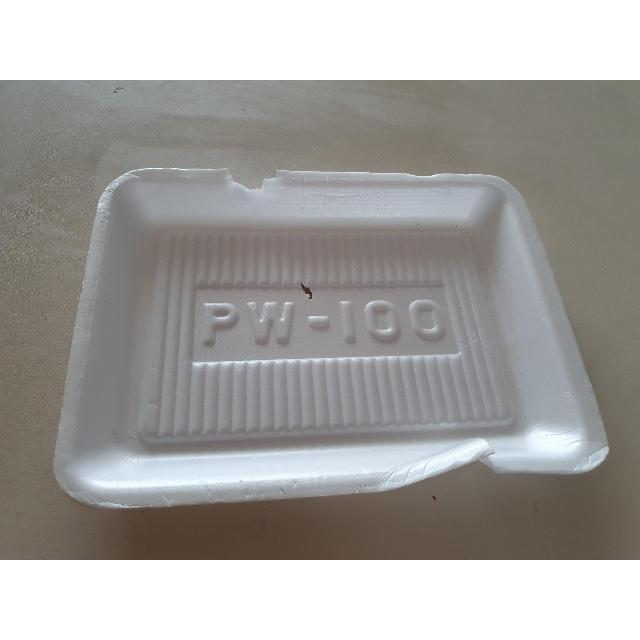Recipiente plastico: (55, 168, 608, 508)
